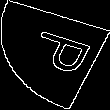P_E: (16, 28, 94, 82)
